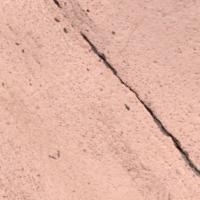crack: (53, 0, 199, 172)
